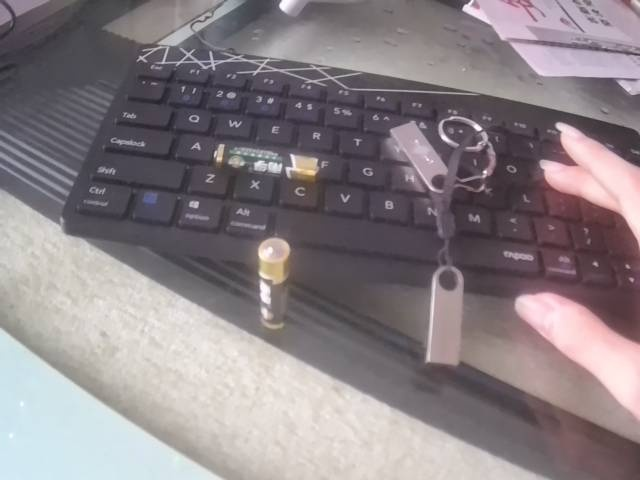U-disk: (386, 118, 496, 194), (423, 255, 466, 375)
battery: (209, 143, 325, 186), (254, 236, 296, 332)
